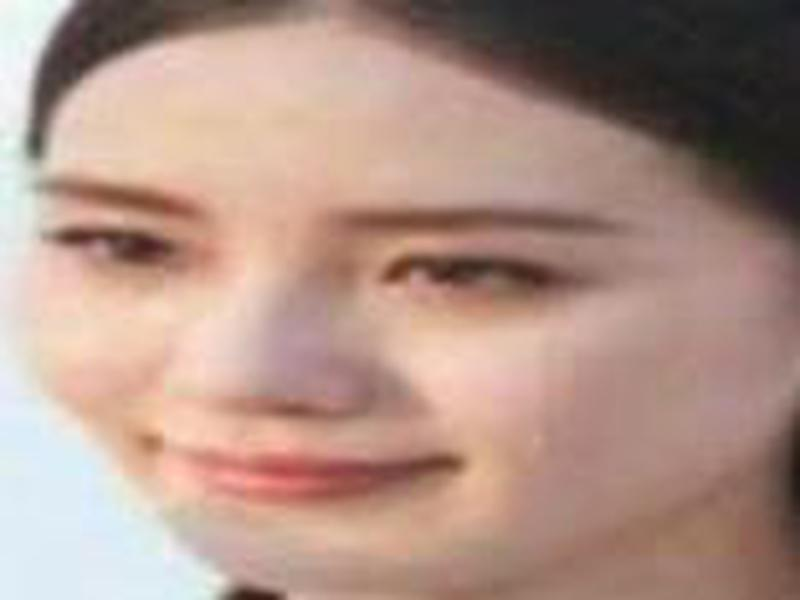without_mask: (14, 36, 727, 587)
